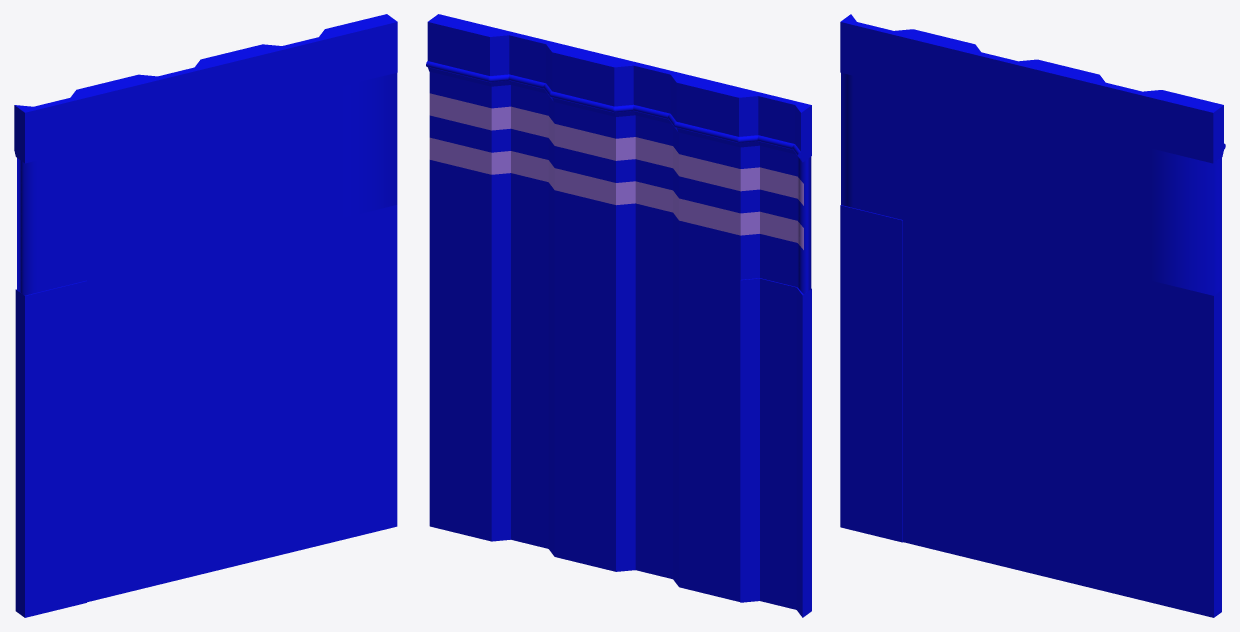
Rendered from Fall_Wall.fbx.
3 renders of one model, left to right at view 1: azimuth 30°, elevation 25°; view 2: azimuth 150°, elevation 25°; view 3: azimuth 330°, elevation 25°, orthographic.
Visible parts, largest first — view 1: Box012; view 2: Box012; view 3: Box012.
Boxes of the visible parts, x1=… form: Box012: x1=14, y1=14, x2=397, y2=617; Box012: x1=426, y1=14, x2=811, y2=617; Box012: x1=840, y1=14, x2=1225, y2=617.
Bounding box in the file's own units: 394 × 510 × 22.64.
